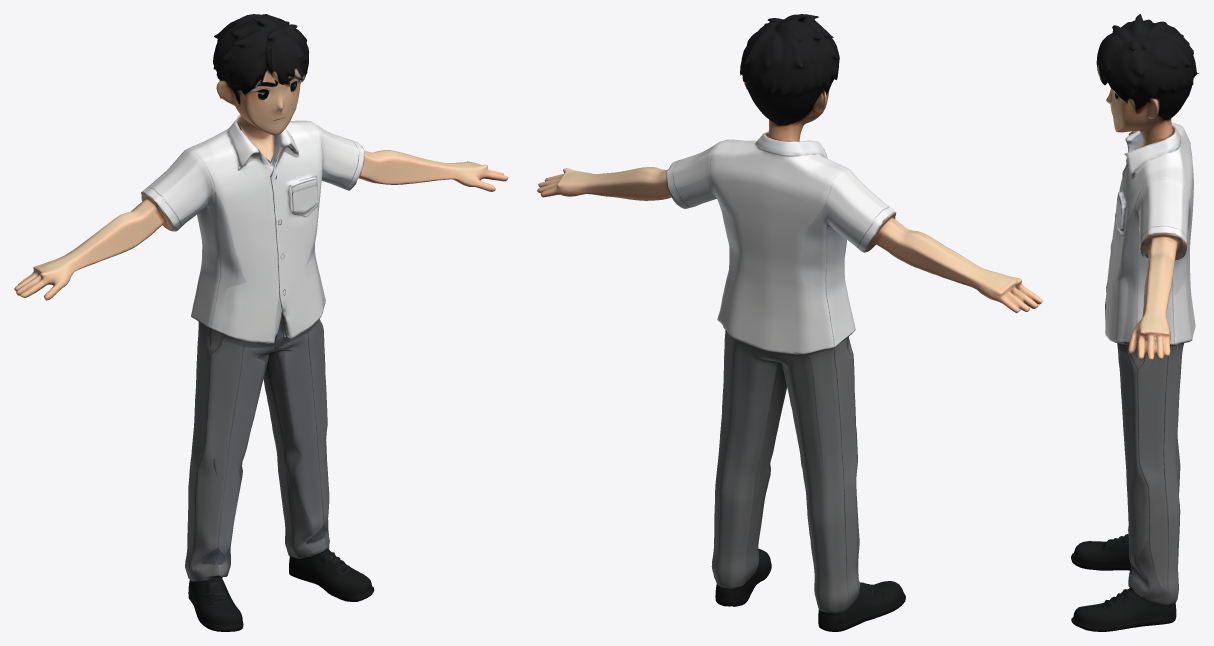
Rendered from deden.glb.
The picture shows the model from 3 angles, left to right: view 1: azimuth 30°, elevation 25°; view 2: azimuth 150°, elevation 25°; view 3: azimuth 270°, elevation 25°; orthographic projection. The views are drawn at different scales.
Visible parts, largest first — view 1: model; view 2: model; view 3: model.
Boxes of the visible parts, box(x1,y1,x2,y2) form: model: box(14, 14, 508, 631); model: box(537, 14, 1042, 631); model: box(1071, 14, 1198, 631).
Bounding box in the file's own units: 1.53 × 1.73 × 0.3525.
1 material, 1 textured.
